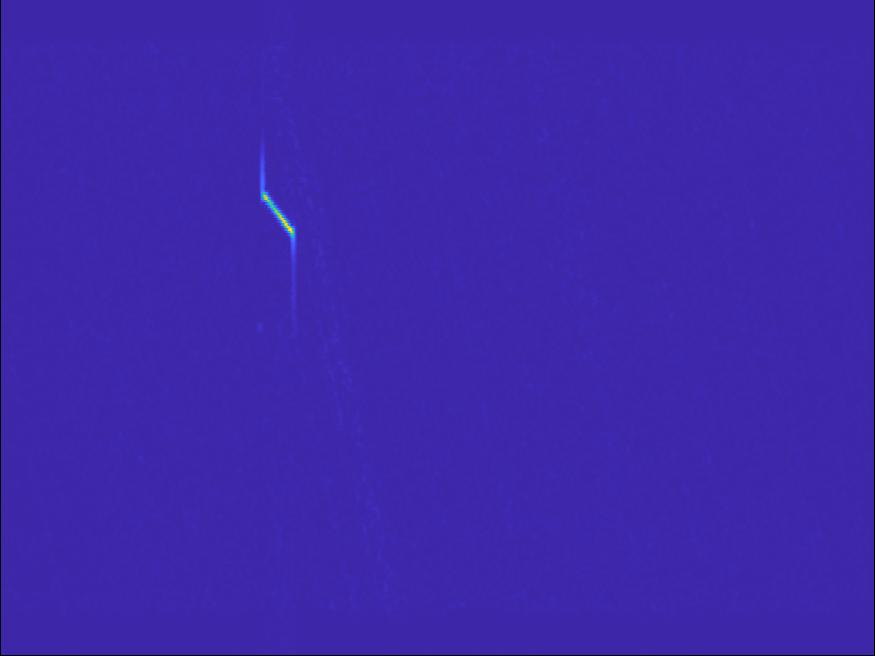Interference: (239, 165, 326, 276)
